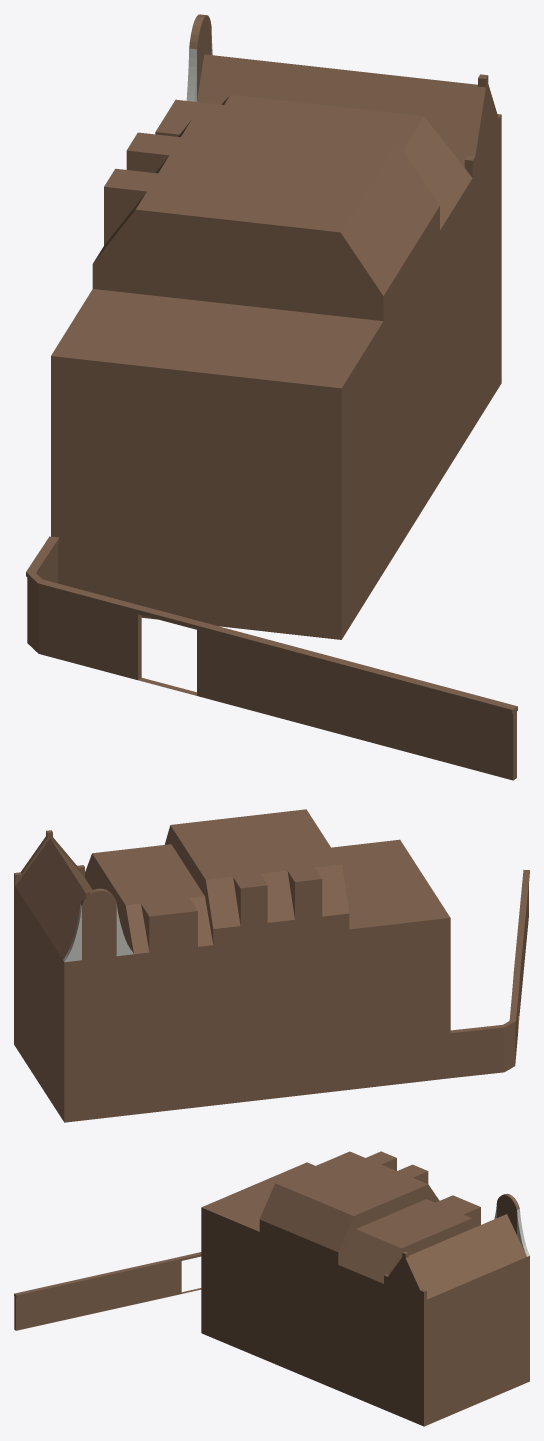
File: Grote_Kattenburgerstraat_40-50.fbx
3 renders of one model, top to bottom at view 1: azimuth 30°, elevation 25°; view 2: azimuth 150°, elevation 25°; view 3: azimuth 270°, elevation 25°, orthographic. The views are drawn at different scales.
Parts seen in each view (by area): view 1: Grote_Kattenburgerstraat_42_walls, Grote_Kattenburgerstraat_44-46_roof, Grote_Kattenburgerstraat_40_wall, Grote_Kattenburgerstraat_44-46_walls, Grote_Kattenburgerstraat_50_roof, Grote_Kattenburgerstraat_50_walls, Grote_Kattenburgerstraat_48_roof, Grote_Kattenburgerstraat_48_walls; view 2: Grote_Kattenburgerstraat_44-46_walls, Grote_Kattenburgerstraat_42_walls, Grote_Kattenburgerstraat_50_walls, Grote_Kattenburgerstraat_44-46_roof, Grote_Kattenburgerstraat_48_walls, Grote_Kattenburgerstraat_48_roof, Grote_Kattenburgerstraat_40_wall, Grote_Kattenburgerstraat_50_roof; view 3: Grote_Kattenburgerstraat_50_walls, Grote_Kattenburgerstraat_44-46_walls, Grote_Kattenburgerstraat_44-46_roof, Grote_Kattenburgerstraat_42_walls, Grote_Kattenburgerstraat_40_wall, Grote_Kattenburgerstraat_48_roof, Grote_Kattenburgerstraat_48_walls, Grote_Kattenburgerstraat_50_roof.
Part boxes in pixels (x1,y1,x2,y2): Grote_Kattenburgerstraat_42_walls: [51, 289, 383, 639]; Grote_Kattenburgerstraat_44-46_roof: [93, 119, 439, 296]; Grote_Kattenburgerstraat_40_wall: [26, 536, 517, 780]; Grote_Kattenburgerstraat_44-46_walls: [92, 206, 439, 571]; Grote_Kattenburgerstraat_50_roof: [197, 54, 477, 167]; Grote_Kattenburgerstraat_50_walls: [186, 14, 501, 429]; Grote_Kattenburgerstraat_48_roof: [155, 95, 472, 229]; Grote_Kattenburgerstraat_48_walls: [440, 178, 472, 481]; Grote_Kattenburgerstraat_44-46_walls: [209, 913, 349, 1105]; Grote_Kattenburgerstraat_42_walls: [331, 839, 450, 1089]; Grote_Kattenburgerstraat_50_walls: [14, 830, 133, 1122]; Grote_Kattenburgerstraat_44-46_roof: [164, 809, 349, 928]; Grote_Kattenburgerstraat_48_walls: [134, 945, 213, 1114]; Grote_Kattenburgerstraat_48_roof: [85, 844, 213, 954]; Grote_Kattenburgerstraat_40_wall: [450, 869, 529, 1077]; Grote_Kattenburgerstraat_50_roof: [15, 838, 131, 959]; Grote_Kattenburgerstraat_50_walls: [384, 1193, 529, 1426]; Grote_Kattenburgerstraat_44-46_walls: [259, 1219, 345, 1390]; Grote_Kattenburgerstraat_44-46_roof: [260, 1151, 439, 1252]; Grote_Kattenburgerstraat_42_walls: [201, 1162, 314, 1357]; Grote_Kattenburgerstraat_40_wall: [14, 1252, 201, 1330]; Grote_Kattenburgerstraat_48_roof: [338, 1195, 480, 1283]; Grote_Kattenburgerstraat_48_walls: [338, 1265, 383, 1409]; Grote_Kattenburgerstraat_50_roof: [408, 1214, 526, 1299].
Size of the model in its own units: 26.26 by 14.34 by 37.52.
